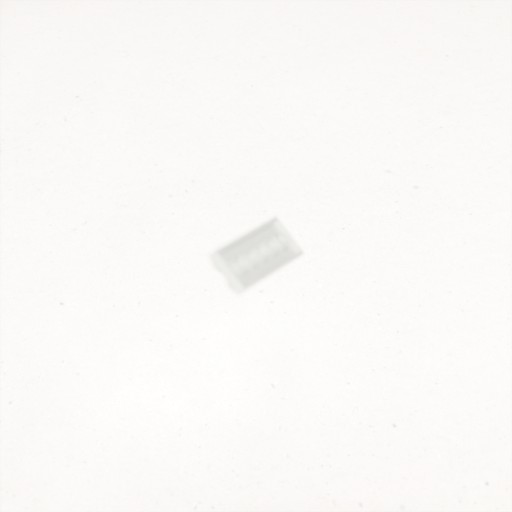lego: (207, 215, 305, 297)
